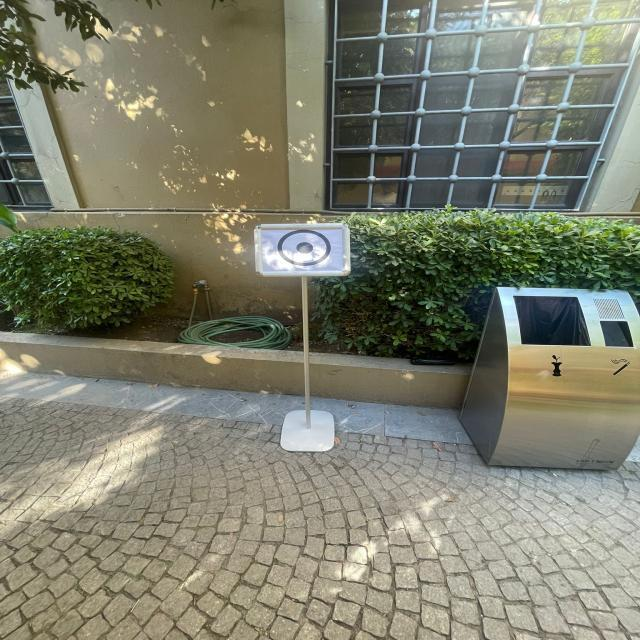Target: (246, 213, 362, 283)
inner: (288, 236, 324, 258)
